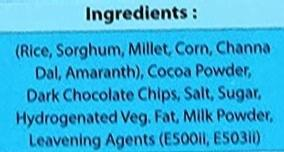ingredients: (8, 3, 276, 149)
